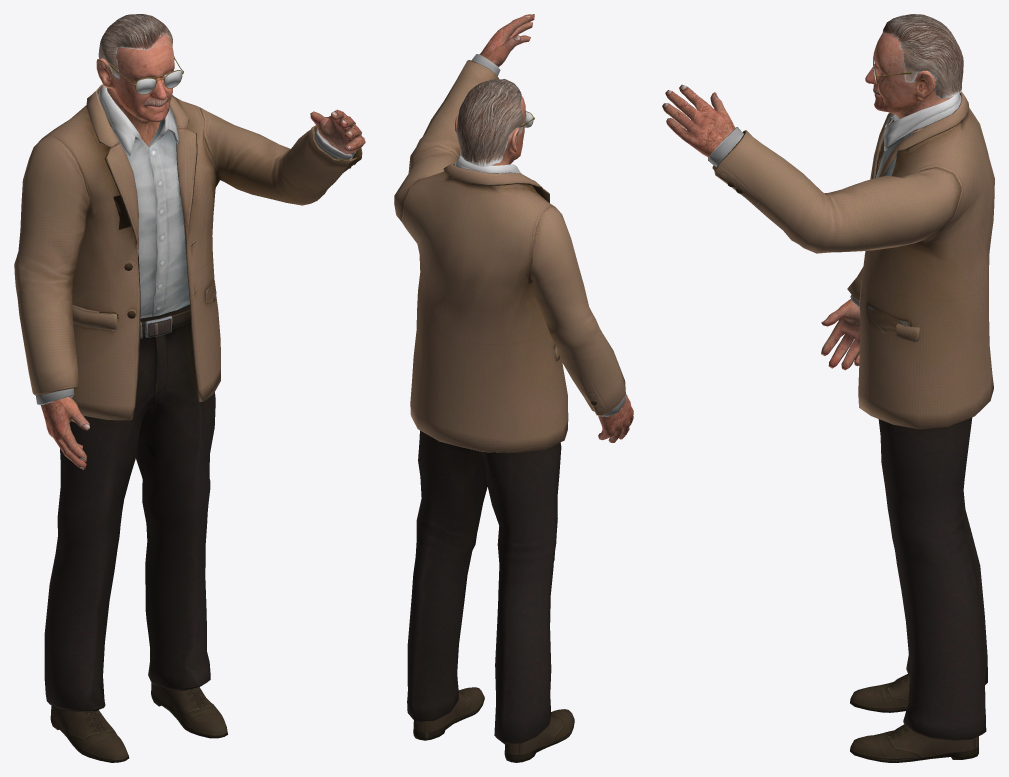
Rendered from man2.obj.
The picture shows the model from 3 angles, left to right: view 1: azimuth 30°, elevation 25°; view 2: azimuth 150°, elevation 25°; view 3: azimuth 270°, elevation 25°; orthographic projection. The views are drawn at different scales.
Parts seen in each view (by area): view 1: StanLeeBody; view 2: StanLeeBody; view 3: StanLeeBody.
Boxes of the visible parts, bbox=[...] form: StanLeeBody: bbox=[14, 14, 365, 762]; StanLeeBody: bbox=[394, 14, 633, 762]; StanLeeBody: bbox=[662, 14, 994, 762].
Bounding box in the file's own units: 1.37 × 3.62 × 1.53.
